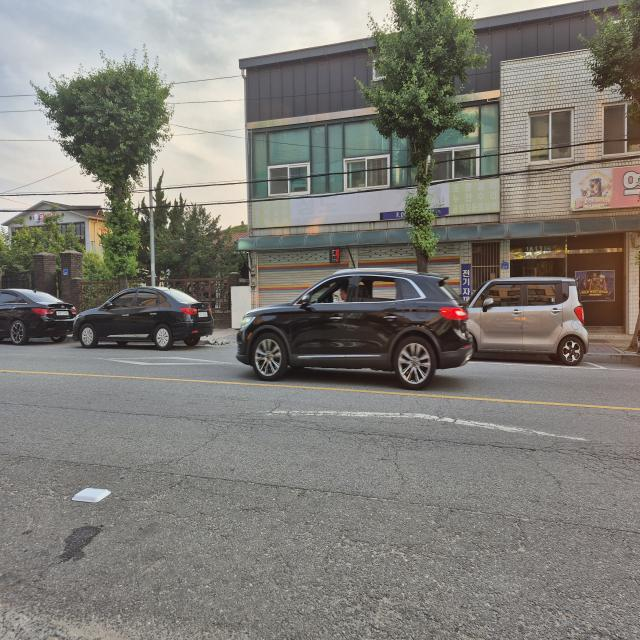car: (237, 270, 438, 387), (454, 264, 596, 370), (70, 285, 216, 349), (0, 289, 77, 345)
